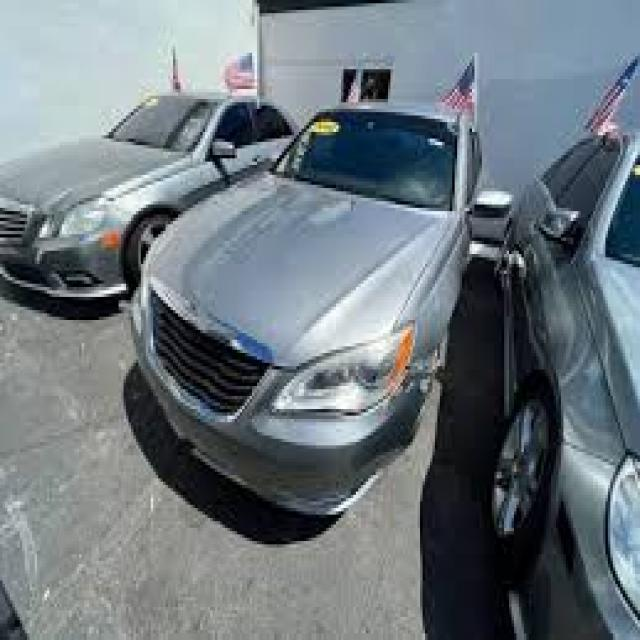minor: (381, 337, 435, 408)
